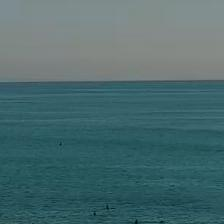surfer: (134, 218, 138, 223), (93, 211, 96, 215), (106, 204, 108, 210), (159, 220, 163, 223), (0, 212, 2, 217), (60, 142, 62, 146), (31, 222, 36, 223)
